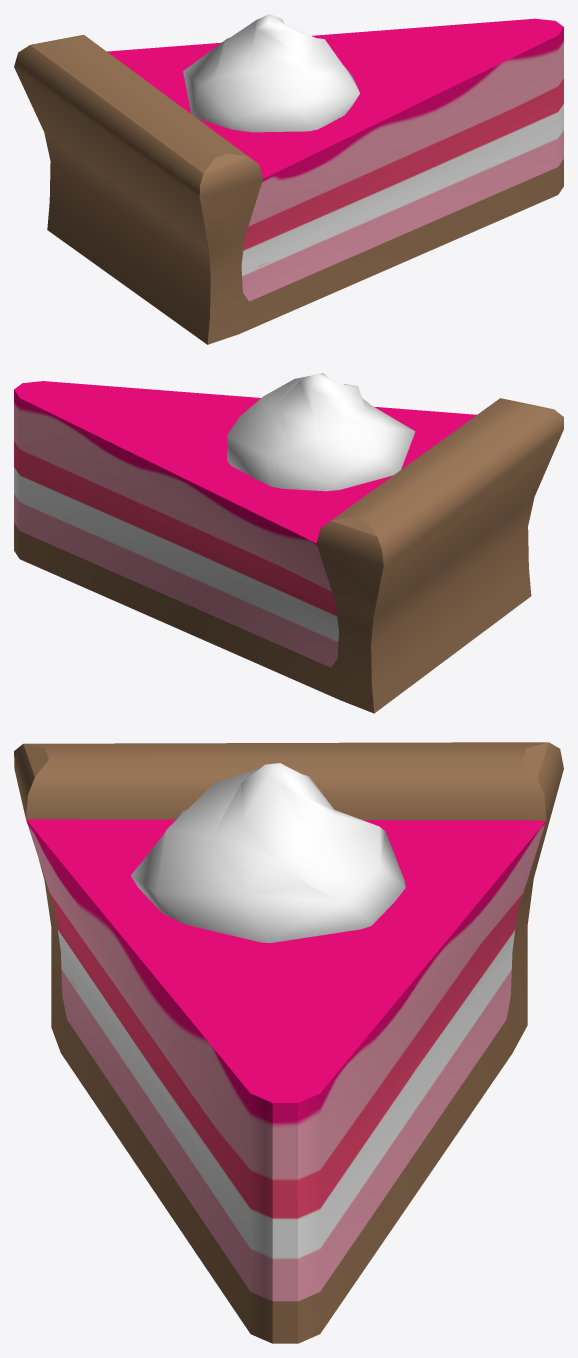
File: pink_cakepiece.glb
The picture shows the model from 3 angles, top to bottom: view 1: azimuth 30°, elevation 25°; view 2: azimuth 150°, elevation 25°; view 3: azimuth 270°, elevation 25°; orthographic projection. The views are drawn at different scales.
Visible parts, largest first — view 1: Pink_CakePiece; view 2: Pink_CakePiece; view 3: Pink_CakePiece.
Boxes of the visible parts, <box> form: Pink_CakePiece: <box>14,14,563,344</box>; Pink_CakePiece: <box>14,373,563,713</box>; Pink_CakePiece: <box>14,742,563,1343</box>.
Bounding box in the file's own units: 0.6832 × 0.3482 × 0.4752.
Materials: 1 (1 with a texture image).
